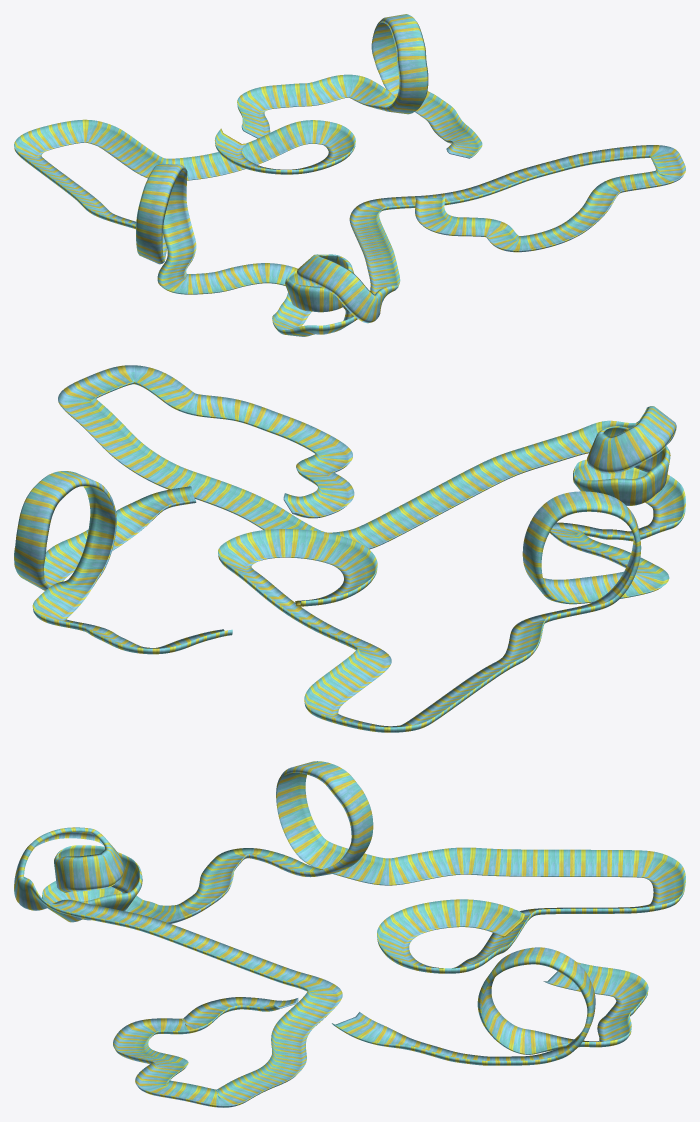
The model's file is Carriles.fbx.
The picture shows the model from 3 angles, top to bottom: view 1: azimuth 30°, elevation 25°; view 2: azimuth 150°, elevation 25°; view 3: azimuth 270°, elevation 25°; orthographic projection. The views are drawn at different scales.
Parts seen in each view (by area): view 1: Recta; view 2: Recta; view 3: Recta.
Part boxes in pixels (x1,y1,x2,y2): Recta: (14, 14, 685, 336); Recta: (14, 365, 685, 732); Recta: (14, 761, 685, 1107).
Bounding box in the file's own units: 4500 × 940 × 4416.
